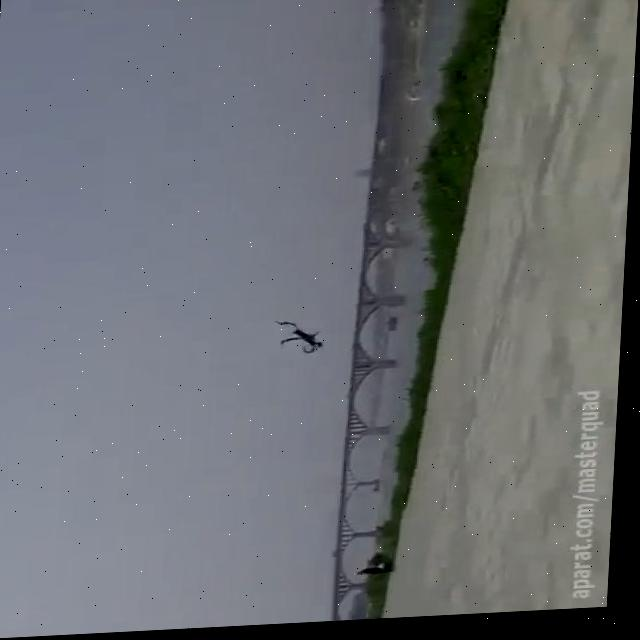drone: (265, 319, 328, 364)
